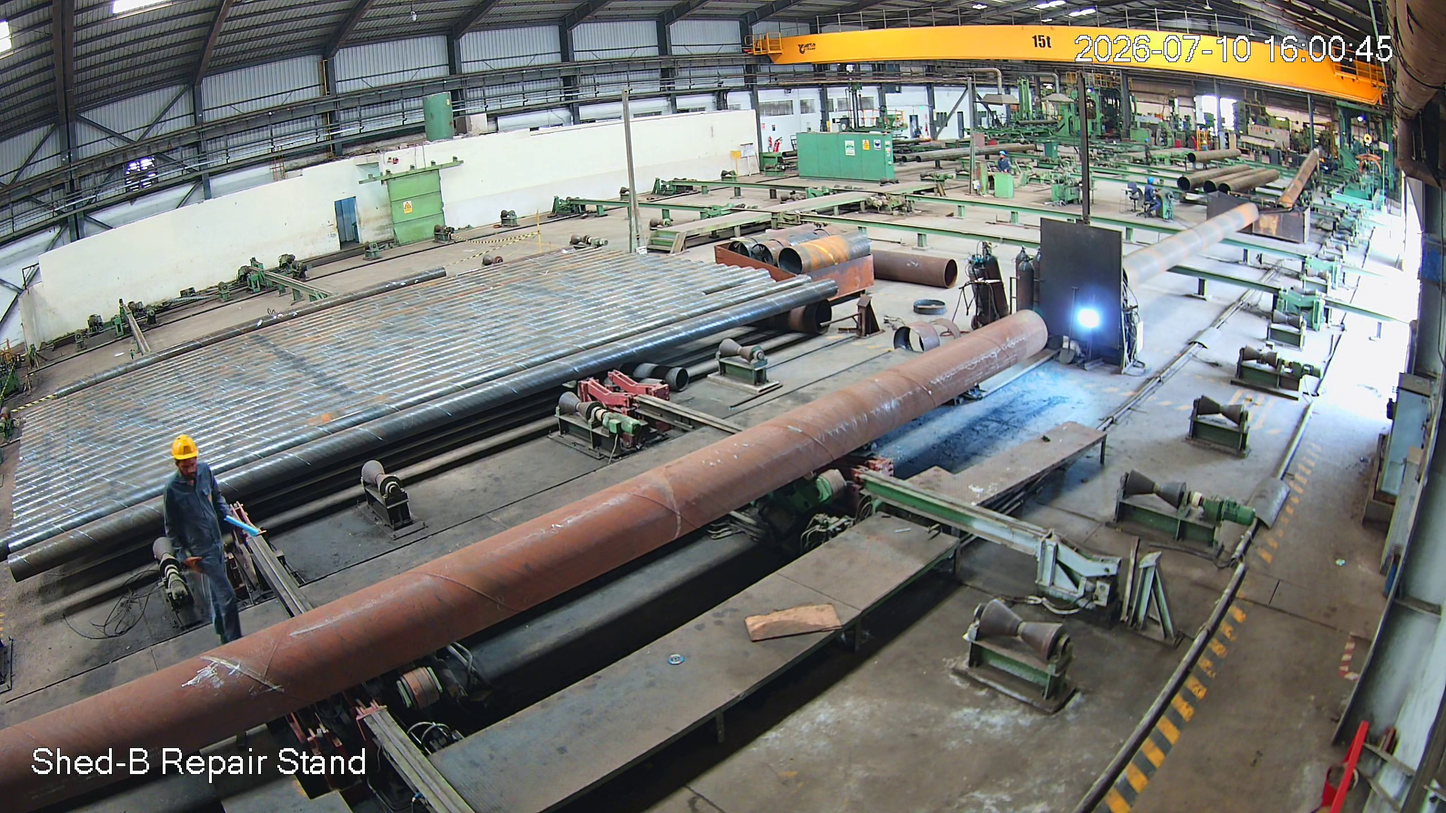Helmet: (163, 432, 231, 504)
Person: (144, 440, 262, 643)
